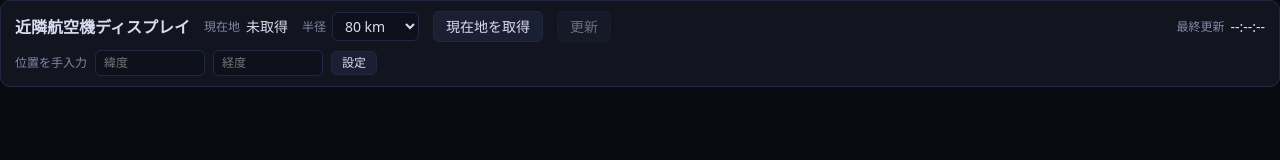
Test: StatusBar › 範囲外の座標は受け付けない
Type "120" into the number field labelled "緯度" at (150, 63), box 95,50 -> 205,76
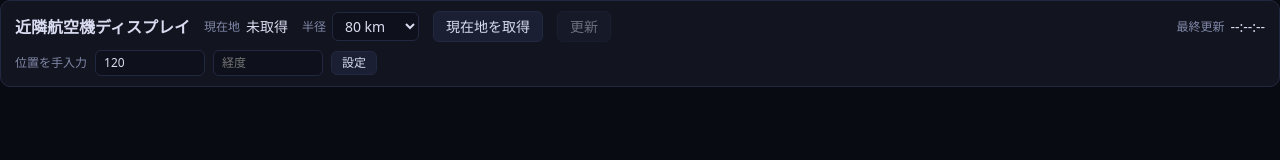
Type "10" into the number field labelled "経度" at (268, 63), box 213,50 -> 323,76
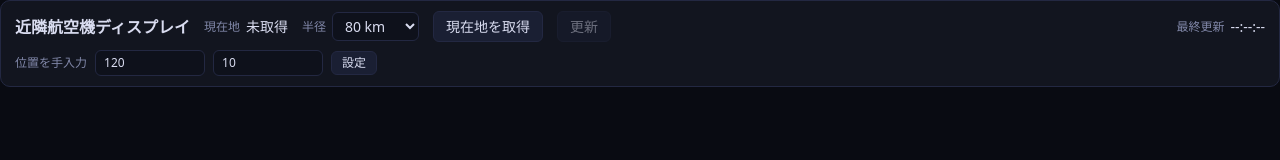
Click the button "設定" at (354, 63), box 331,51 -> 377,75
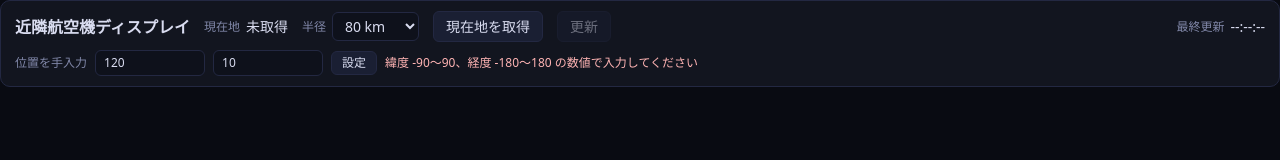
Result: the text "緯度 -90〜90、経度 -180〜180 の数値で入力してください" is shown at 385,54 -> 698,72
